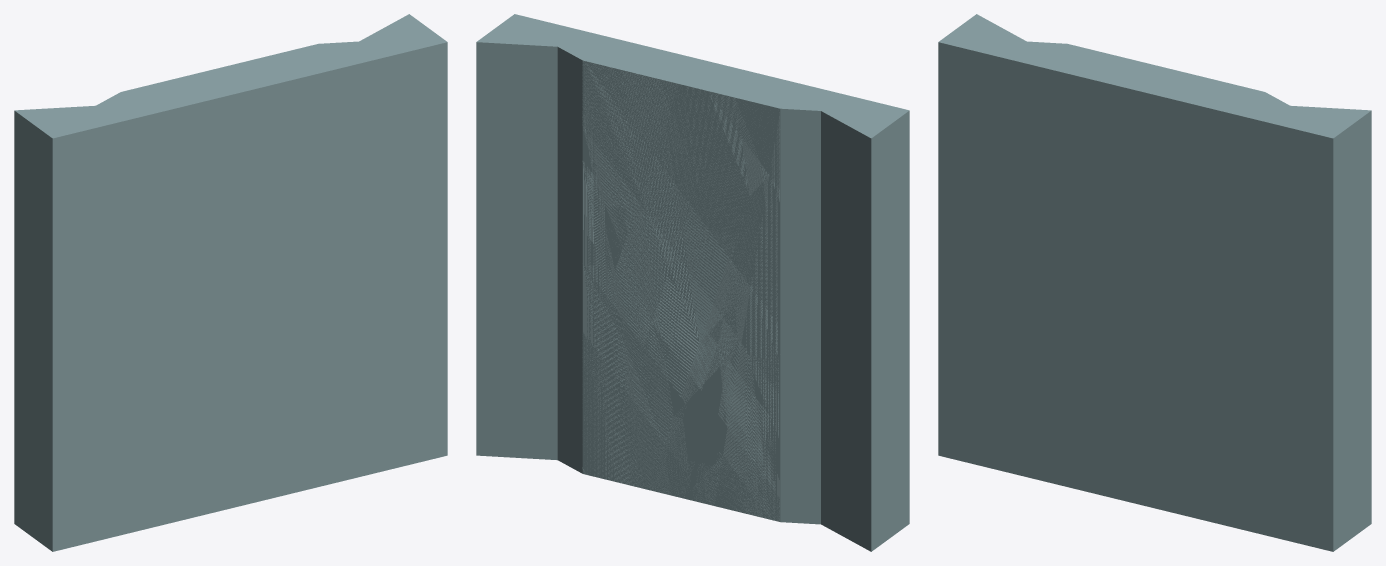
The model's file is cliff_waterfall_stone.glb.
3 views of the same model, side by side, from view 1: azimuth 30°, elevation 25°; view 2: azimuth 150°, elevation 25°; view 3: azimuth 330°, elevation 25° (orthographic).
Visible parts, largest first — view 1: cliff_waterfall_stone; view 2: cliff_waterfall_stone; view 3: cliff_waterfall_stone.
Part boxes in pixels (x1,y1,x2,y2): cliff_waterfall_stone: (14,14,447,551); cliff_waterfall_stone: (476,14,909,551); cliff_waterfall_stone: (938,14,1371,551).
Size of the model in its own units: 1 by 1 by 0.1685.
